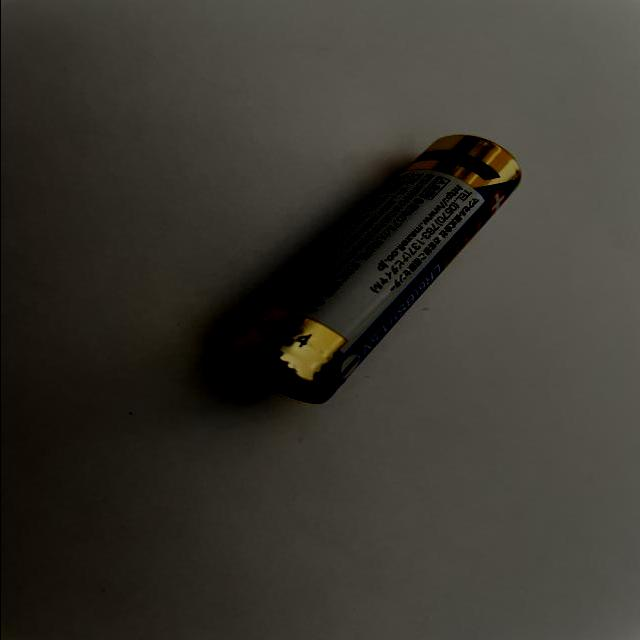AA: (218, 132, 524, 406)
